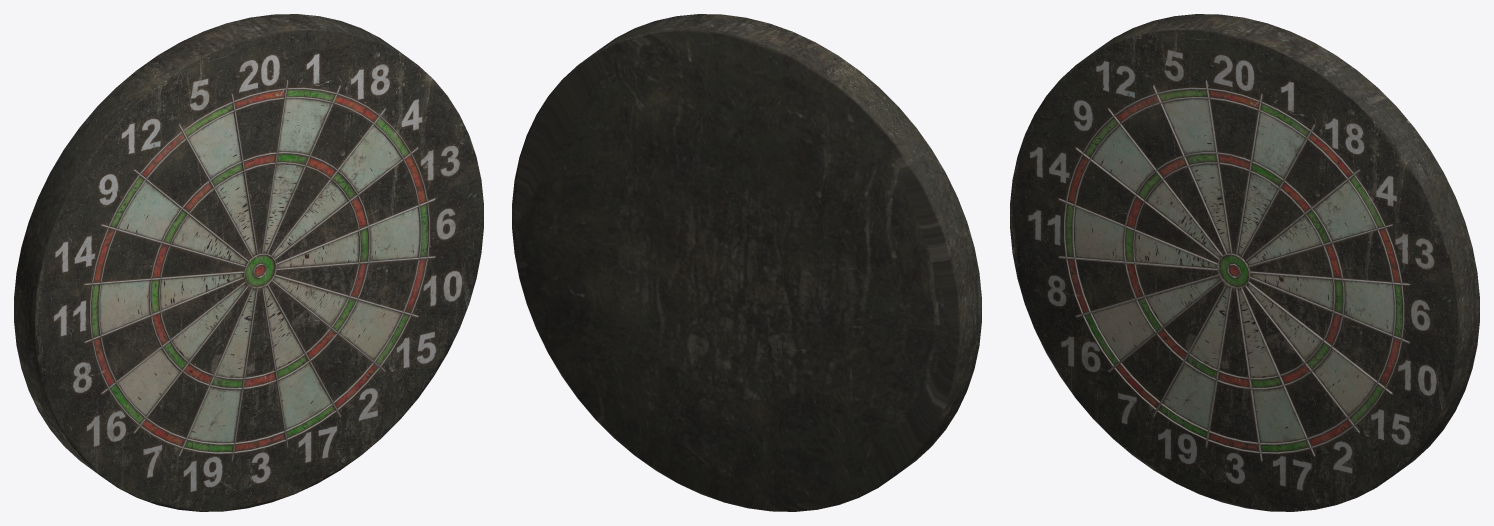
The model's file is dartboard.glb.
3 renders of one model, left to right at view 1: azimuth 30°, elevation 25°; view 2: azimuth 150°, elevation 25°; view 3: azimuth 330°, elevation 25°, orthographic.
Visible parts, largest first — view 1: dartboard; view 2: dartboard; view 3: dartboard.
Boxes of the visible parts, x1,y1,x2,y2 form: dartboard: (14, 14, 483, 511); dartboard: (512, 14, 981, 511); dartboard: (1010, 14, 1479, 511).
Size of the model in its own units: 0.4507 by 0.4507 by 0.0398.
Materials: 1 (1 with a texture image).
